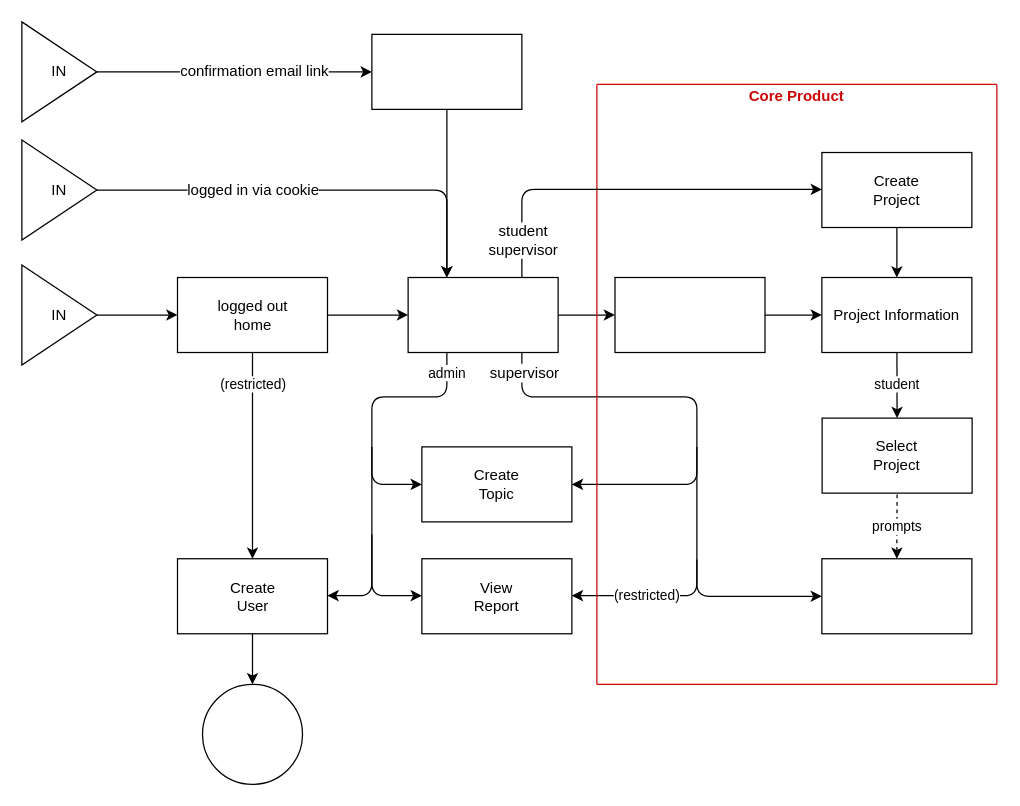
The diagram is 1020 pixels wide and 806 high, and some of its shapes have lost their labels. The shapes that lost their labels are listed below. From the top down, each one's box as (x1, y1, x2, y2) in pixels, then its label:
(371, 33, 522, 109): Confirmation Successful
(407, 276, 558, 352): logged in home
(614, 276, 765, 352): Full Project List
(821, 558, 972, 634): Review Student's Project Selection
(201, 683, 302, 784): Send Confirmation Email
